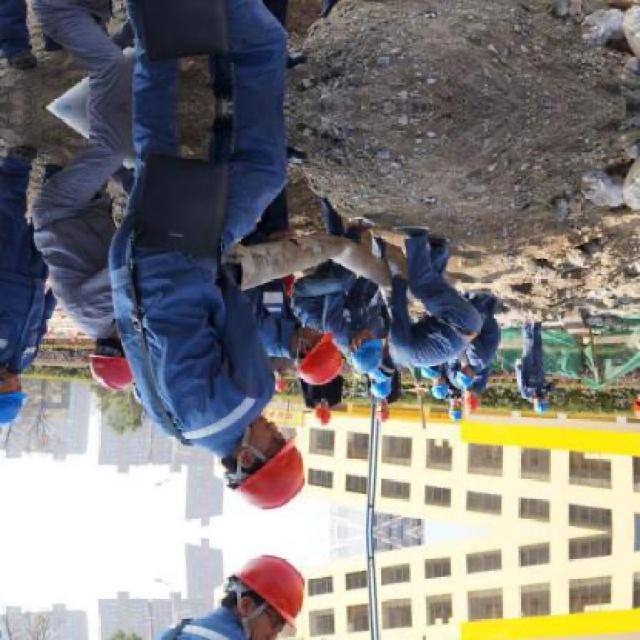con casco: (156, 417, 302, 532), (224, 552, 326, 640), (64, 333, 134, 397)
